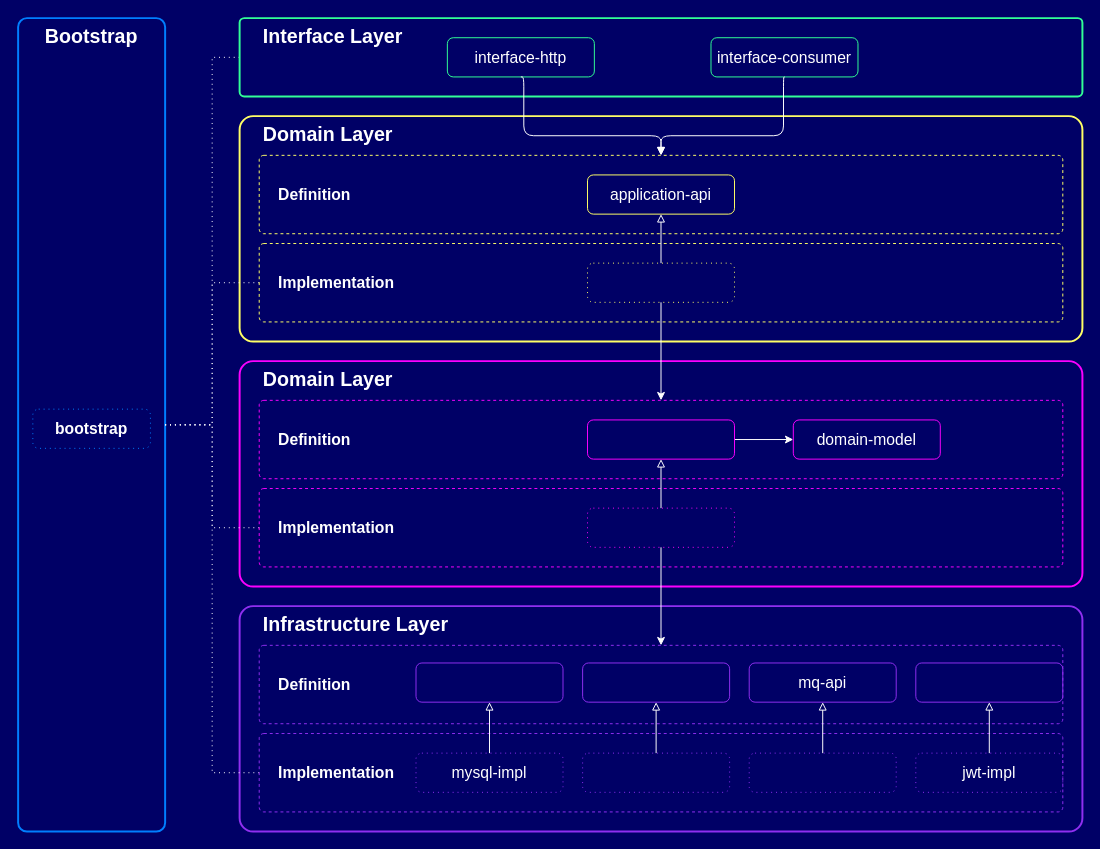
Image size: 1100x849. Some labels were removed from this diagram. The centre of each missing label's shape, as x and y in pixels:
"application-impl" goes at (x=661, y=282).
"cache-api" goes at (x=656, y=682).
"domain-api" goes at (x=661, y=439).
"domain-impl" goes at (x=661, y=527).
"redis-impl" goes at (x=656, y=772).
"repository-api" goes at (x=489, y=682).
"security-api" goes at (x=989, y=682).
"sqs-impl" goes at (x=822, y=772).
